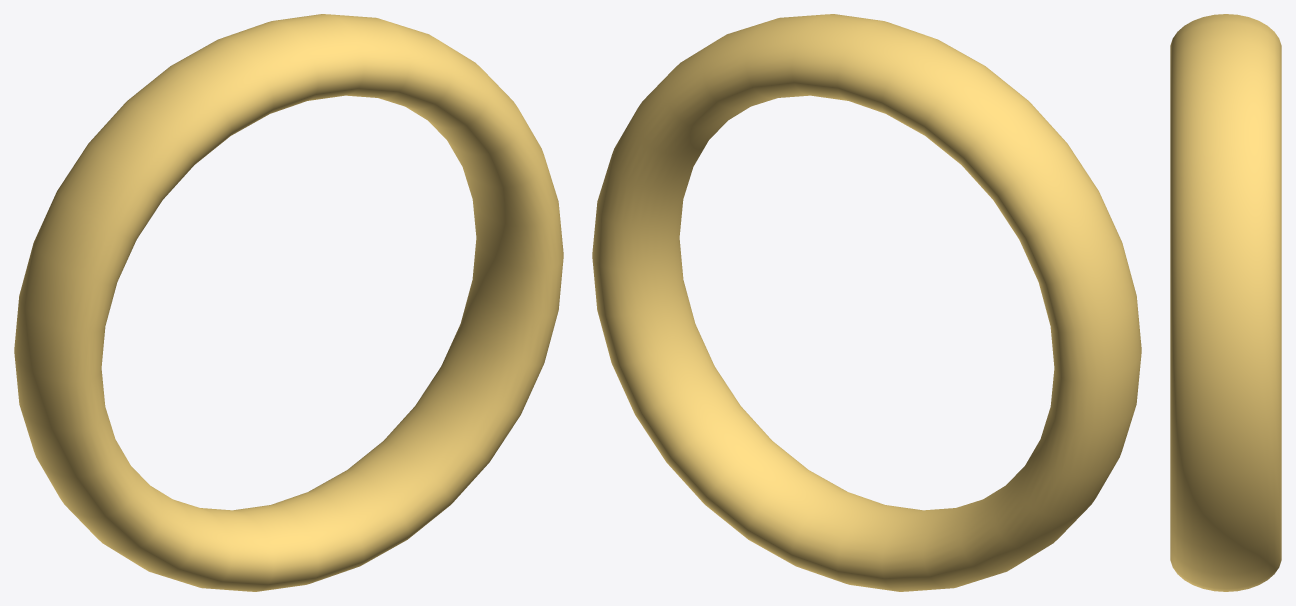
File: Ring_Thick.glb
3 views of the same model, side by side, from view 1: azimuth 30°, elevation 25°; view 2: azimuth 150°, elevation 25°; view 3: azimuth 270°, elevation 25° (orthographic). The views are drawn at different scales.
Visible parts, largest first — view 1: Thick; view 2: Thick; view 3: Thick.
Part boxes in pixels (x1,y1,x2,y2): Thick: [14, 14, 563, 591]; Thick: [592, 14, 1141, 591]; Thick: [1170, 14, 1281, 591].
Bounding box in the file's own units: 5.71 × 5.71 × 1.1.
